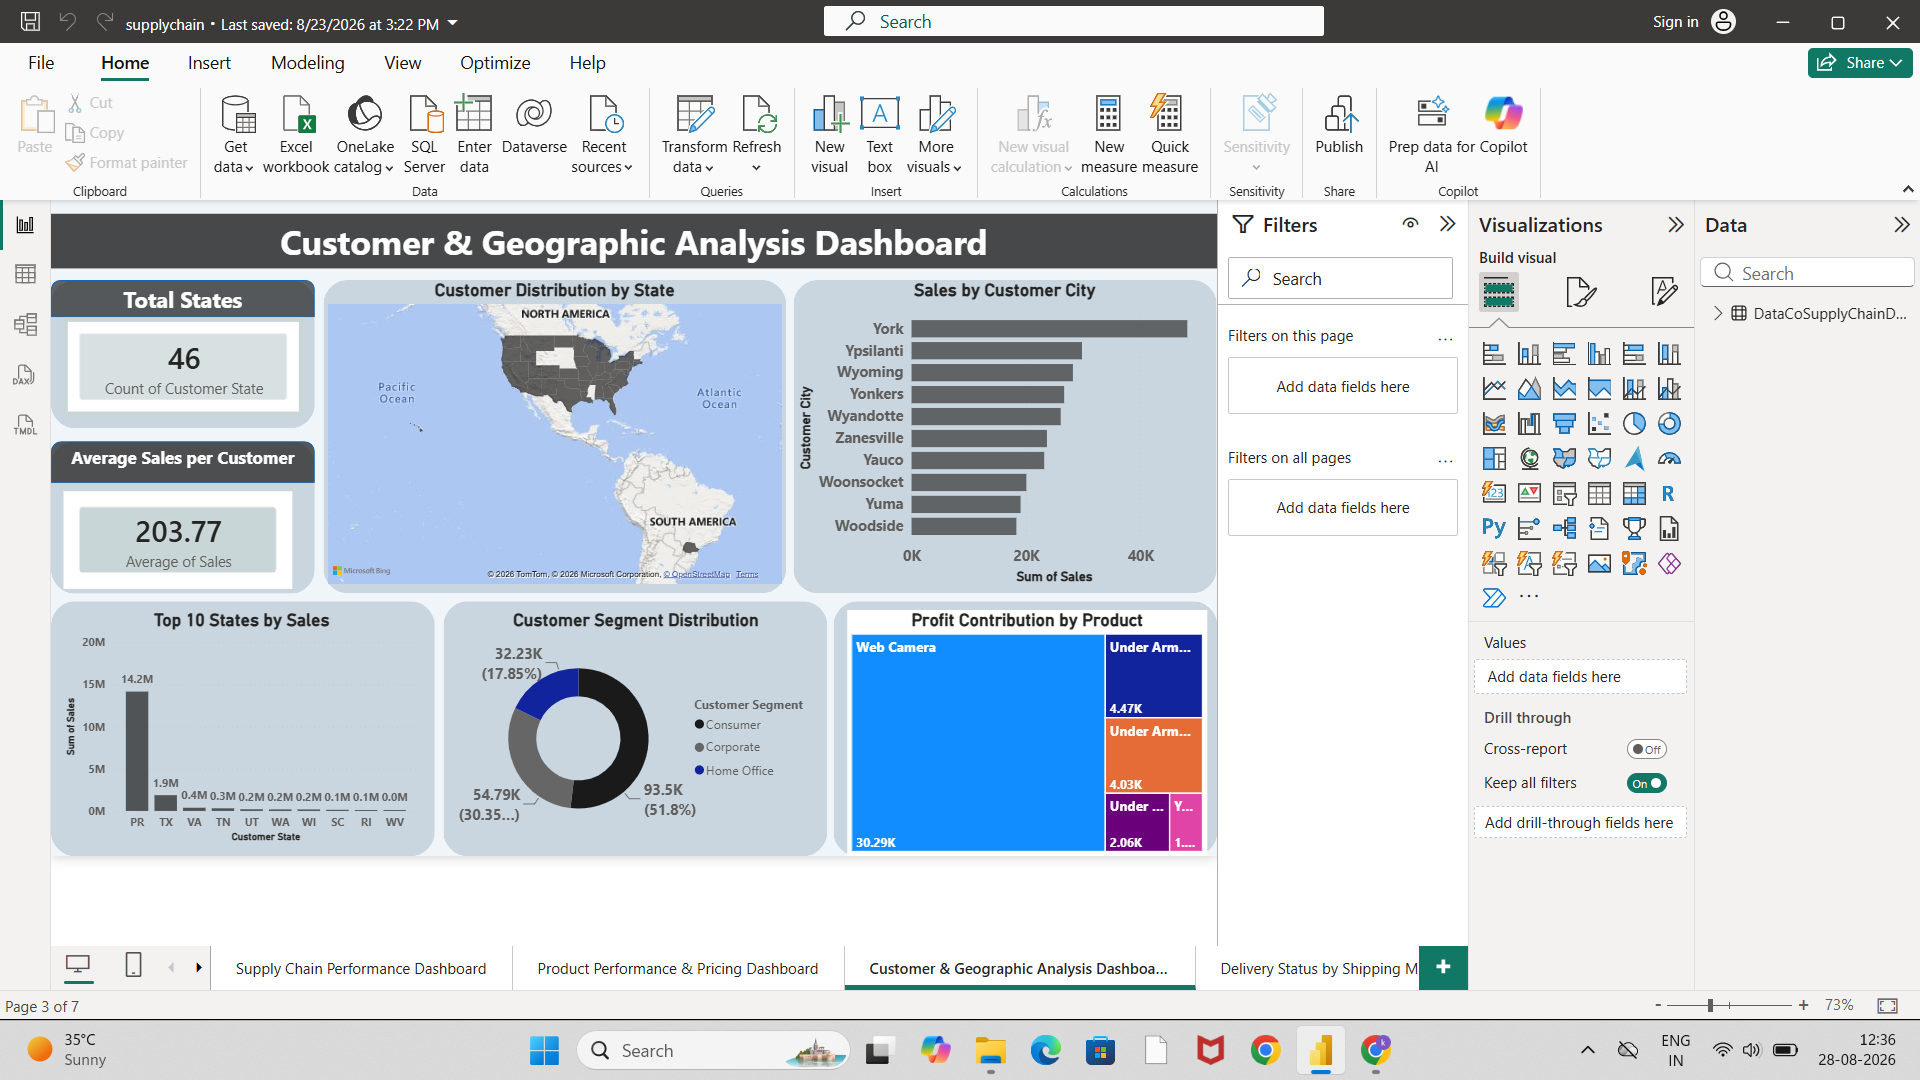

The page's visual inventory and layout, read from the dashboard file:
{"tool":"powerbi","page":{"name":"Customer & Geographic Analysis Dashboard","canvas":[1280,720],"ordinal":2},"visuals":[{"type":"shape","box":[859,440.5,421.3,279.9],"z":0},{"type":"textbox","box":[0,14.5,1280,60.3],"z":1000},{"type":"shape","box":[430.9,440.5,421.3,279.9],"z":2000},{"type":"shape","box":[0,440.5,421.3,279.9],"z":3000},{"type":"shape","box":[0,88.1,289.5,162.9],"z":4000},{"type":"shape","box":[815.6,88.1,464.5,343.8],"z":5000},{"type":"shape","box":[0,264.8,289.5,167.4],"z":6000},{"type":"shape","box":[299.2,88.1,507.9,343.8],"z":7000},{"type":"shape","box":[0,88.1,289.5,41],"z":8000},{"type":"textbox","box":[0,88.1,289.5,53.1],"z":9000},{"type":"shape","box":[0,264.2,289.5,45.8],"z":10000},{"type":"textbox","box":[0,264.2,289.5,37.4],"z":11000},{"type":"clusteredColumnChart","title":"Top 10 States by Sales","fields":{"Category":["DataCoSupplyChainDataset.Customer State"],"Y":["Sum(DataCoSupplyChainDataset.Sales)"]},"box":[10.9,450,396.9,260.6],"z":12000},{"type":"cardVisual","fields":{"Data":["Count(DataCoSupplyChainDataset.Customer State)"]},"box":[13.7,129,263.5,108.4],"z":13000},{"type":"cardVisual","fields":{"Data":["Avg(DataCoSupplyChainDataset.Sales)"]},"box":[13.7,319.7,251.1,107],"z":14000},{"type":"donutChart","title":"Customer Segment Distribution","fields":{"Category":["DataCoSupplyChainDataset.Customer Segment"],"Y":["CountNonNull(DataCoSupplyChainDataset.Category Id)"]},"box":[447.3,450.1,389.7,260.7],"z":15000},{"type":"clusteredBarChart","title":"Sales by Customer City","fields":{"Category":["DataCoSupplyChainDataset.Customer City"],"Y":["Sum(DataCoSupplyChainDataset.Sales)"]},"box":[815.1,87.8,463.8,338.9],"z":16000},{"type":"filledMap","title":"Customer Distribution by  State","fields":{"Category":["DataCoSupplyChainDataset.Customer State"]},"box":[299.1,87.8,507.7,338.9],"z":17000},{"type":"treemap","title":"Profit Contribution by Product","fields":{"Group":["DataCoSupplyChainDataset.Product Name"],"Values":["Sum(DataCoSupplyChainDataset.Benefit per order)"]},"box":[874.1,450.1,395.2,270.3],"z":18000}]}

Visuals, with their boxes on the page's 1280x720 design canvas (x1, y1, x2, y2). These are canvas units, not pixel positions in the 1920x1080 screenshot, which may show the page scaled, cropped or inside an application window:
shape: [x1=859, y1=440, x2=1280, y2=720]
textbox: [x1=0, y1=14, x2=1280, y2=75]
shape: [x1=431, y1=440, x2=852, y2=720]
shape: [x1=0, y1=440, x2=421, y2=720]
shape: [x1=0, y1=88, x2=290, y2=251]
shape: [x1=816, y1=88, x2=1280, y2=432]
shape: [x1=0, y1=265, x2=290, y2=432]
shape: [x1=299, y1=88, x2=807, y2=432]
shape: [x1=0, y1=88, x2=290, y2=129]
textbox: [x1=0, y1=88, x2=290, y2=141]
shape: [x1=0, y1=264, x2=290, y2=310]
textbox: [x1=0, y1=264, x2=290, y2=302]
"Top 10 States by Sales" clusteredColumnChart: [x1=11, y1=450, x2=408, y2=711]
cardVisual - Count(DataCoSupplyChainDataset.Customer State): [x1=14, y1=129, x2=277, y2=237]
cardVisual - Avg(DataCoSupplyChainDataset.Sales): [x1=14, y1=320, x2=265, y2=427]
"Customer Segment Distribution" donutChart: [x1=447, y1=450, x2=837, y2=711]
"Sales by Customer City" clusteredBarChart: [x1=815, y1=88, x2=1279, y2=427]
"Customer Distribution by  State" filledMap: [x1=299, y1=88, x2=807, y2=427]
"Profit Contribution by Product" treemap: [x1=874, y1=450, x2=1269, y2=720]
